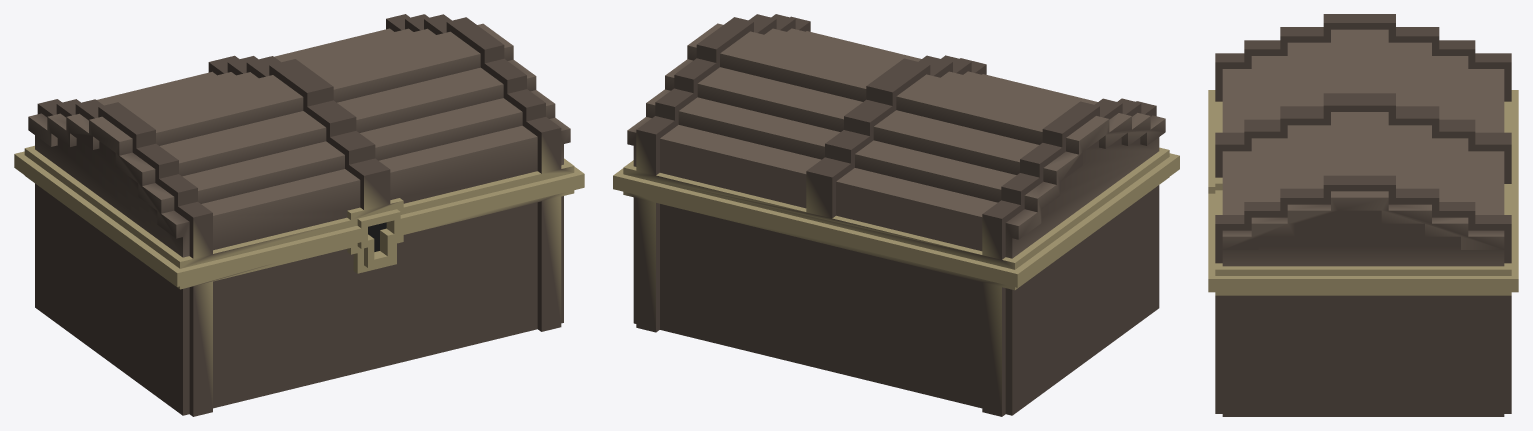
File: Model Treasure Chest closed.fbx
The picture shows the model from 3 angles, left to right: view 1: azimuth 30°, elevation 25°; view 2: azimuth 150°, elevation 25°; view 3: azimuth 270°, elevation 25°; orthographic projection. The views are drawn at different scales.
Visible parts, largest first — view 1: Treasure Chest Closed CLEANED; view 2: Treasure Chest Closed CLEANED; view 3: Treasure Chest Closed CLEANED.
Boxes of the visible parts, left/top/right/bottom form: Treasure Chest Closed CLEANED: left=14, top=14, right=584, bottom=416; Treasure Chest Closed CLEANED: left=613, top=14, right=1179, bottom=416; Treasure Chest Closed CLEANED: left=1208, top=14, right=1518, bottom=416.
Size of the model in its own units: 620 by 350 by 430.
